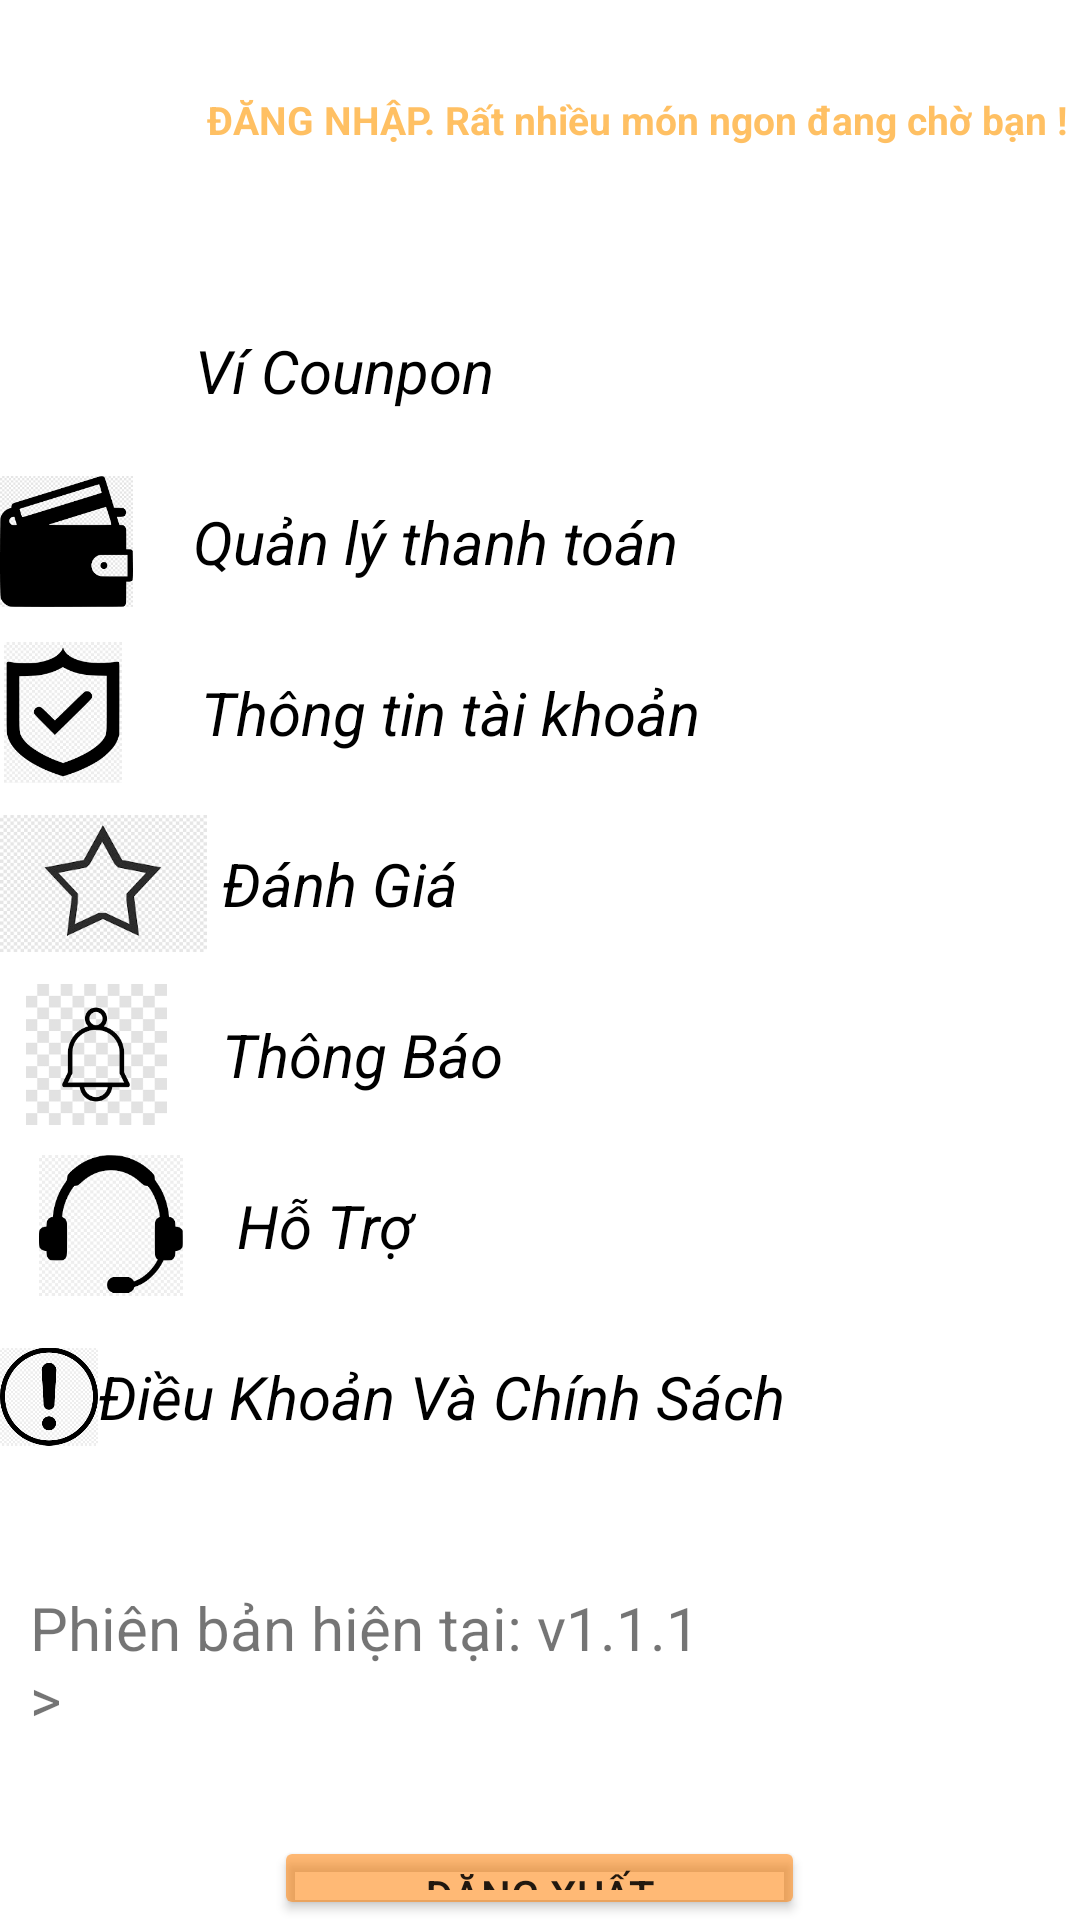

Screen size 1080 x 1920. Icon name, then its center in pixels as (x,y):
chamthan: (49,1397)
hotro: (111,1224)
star: (103,883)
thongbao: (96,1054)
wallet: (66,541)
